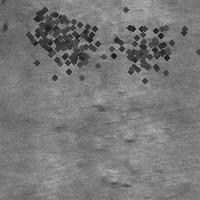rolled-in_scale: (103, 7, 187, 91), (32, 4, 112, 84), (81, 128, 151, 191), (15, 0, 79, 58)
